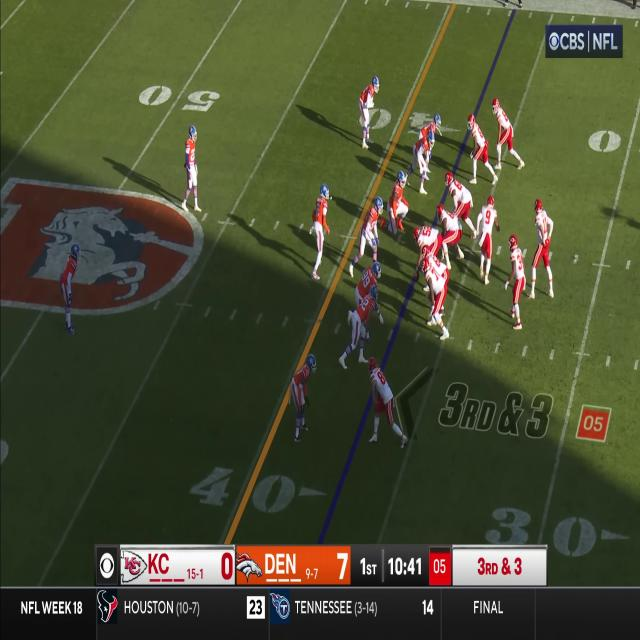Player: (530, 199, 556, 299), (367, 358, 395, 443), (290, 353, 316, 444), (476, 196, 501, 286), (505, 235, 527, 328), (309, 182, 329, 281), (350, 286, 378, 356), (422, 258, 446, 338), (491, 98, 517, 170), (60, 243, 80, 336), (467, 114, 492, 186), (181, 123, 199, 213), (359, 197, 383, 262), (358, 75, 379, 149), (386, 168, 409, 234), (411, 131, 434, 196), (444, 172, 473, 212), (356, 260, 380, 299), (437, 203, 462, 240), (414, 223, 440, 256), (421, 246, 447, 277), (419, 115, 440, 140)
